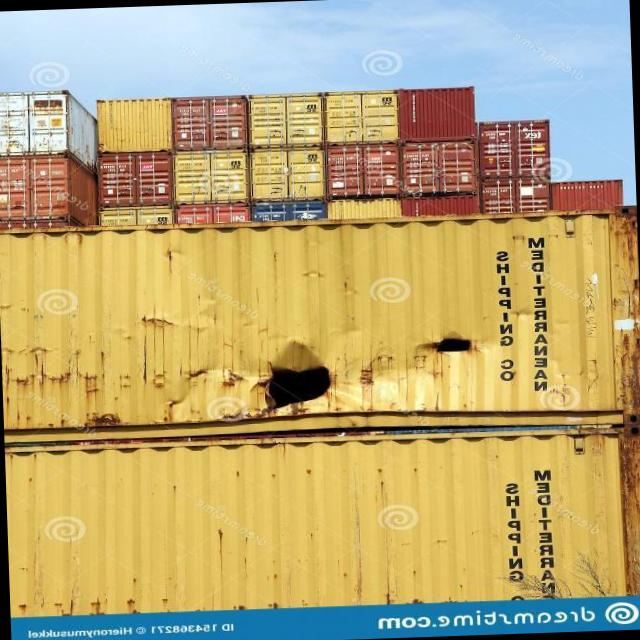Hole: (233, 335, 349, 425), (406, 312, 492, 372)
Rust: (31, 336, 160, 430)
